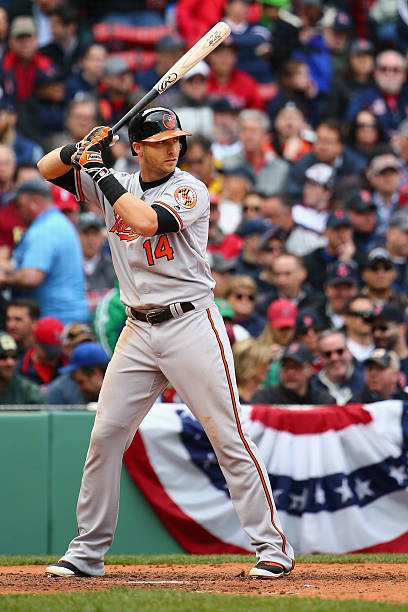bita: (99, 18, 230, 143)
